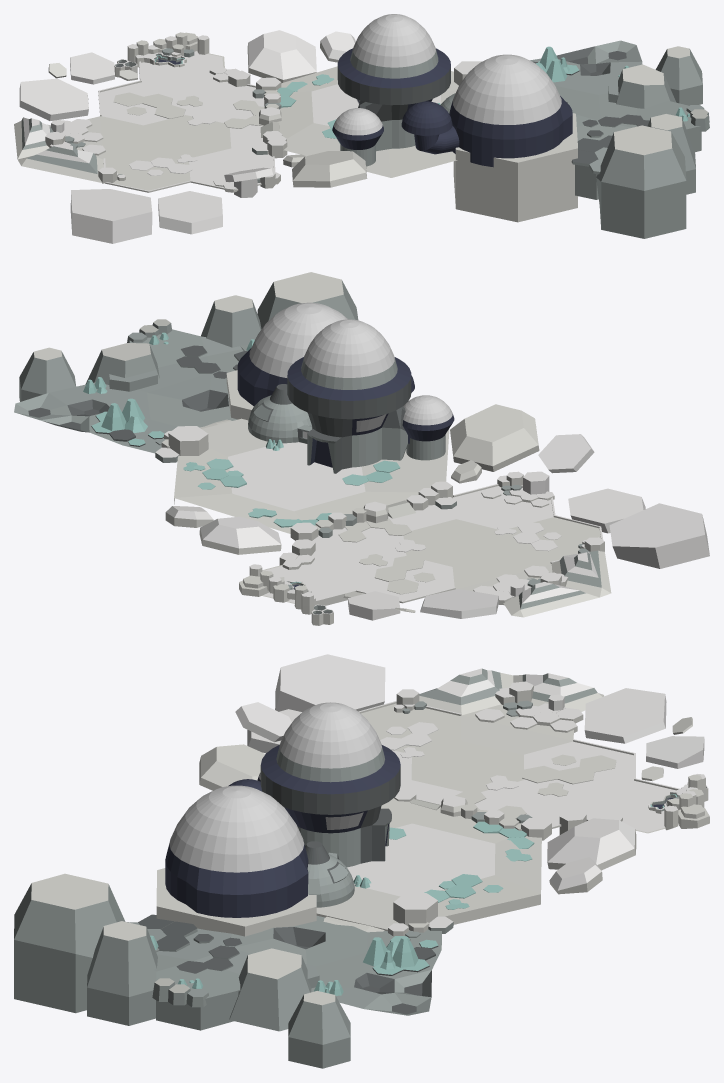
Rendered from MAP_terrafarming_version02.fbx.
3 views of the same model, one above another, from view 1: azimuth 30°, elevation 25°; view 2: azimuth 150°, elevation 25°; view 3: azimuth 270°, elevation 25° (orthographic). The views are drawn at different scales.
Visible parts, largest first — view 1: Plantation, spacioport, Ressource, Spacioportmap, DEco01.002, Rocher02, Decosol01.003, rocher04, DEco01.004, Decosol01.001, Minerai.003, Rocher05 (+5 smaller); view 2: Plantation, spacioport, Spacioportmap, Ressource, DEco01.002, Rocher02, rocher04, Decosol01.003, Rocher01, Decosol01, Minerai.003, Rocher05 (+7 smaller); view 3: Ressource, spacioport, Plantation, Spacioportmap, DEco01.002, Rocher02, Rocher01, Decosol01.003, rocher04, Decosol01, Minerai.003, DEco01.004 (+6 smaller).
Part boxes in pixels (bbox=[...]): Plantation: bbox=[19, 51, 275, 243]; spacioport: bbox=[332, 14, 572, 167]; Ressource: bbox=[530, 40, 702, 238]; Spacioportmap: bbox=[247, 30, 577, 222]; DEco01.002: bbox=[14, 116, 280, 197]; Rocher02: bbox=[114, 32, 209, 77]; Decosol01.003: bbox=[113, 92, 202, 118]; rocher04: bbox=[252, 77, 281, 125]; DEco01.004: bbox=[571, 135, 612, 174]; Decosol01.001: bbox=[129, 154, 197, 175]; Minerai.003: bbox=[536, 46, 569, 82]; Rocher05: bbox=[252, 131, 287, 158]; Plantation: bbox=[262, 434, 709, 620]; spacioport: bbox=[237, 302, 454, 473]; Spacioportmap: bbox=[165, 370, 539, 554]; Ressource: bbox=[14, 272, 358, 453]; DEco01.002: bbox=[458, 471, 611, 617]; Rocher02: bbox=[239, 564, 333, 625]; rocher04: bbox=[290, 501, 388, 540]; Decosol01.003: bbox=[359, 554, 435, 594]; Rocher01: bbox=[155, 426, 208, 462]; Decosol01: bbox=[183, 458, 276, 518]; Minerai.003: bbox=[101, 398, 147, 432]; Rocher05: bbox=[406, 481, 456, 510]; Ressource: bbox=[14, 873, 441, 1068]; spacioport: bbox=[165, 702, 400, 917]; Plantation: bbox=[235, 654, 704, 833]; Spacioportmap: bbox=[156, 744, 636, 936]; DEco01.002: bbox=[419, 668, 603, 740]; Rocher02: bbox=[648, 774, 709, 830]; Rocher01: bbox=[388, 893, 453, 937]; Decosol01.003: bbox=[522, 754, 616, 796]; rocher04: bbox=[440, 795, 551, 840]; Decosol01: bbox=[424, 849, 532, 909]; Minerai.003: bbox=[363, 936, 418, 969]; DEco01.004: bbox=[127, 914, 197, 952].
Bounding box in the file's own units: 2195 × 554 × 1703.
